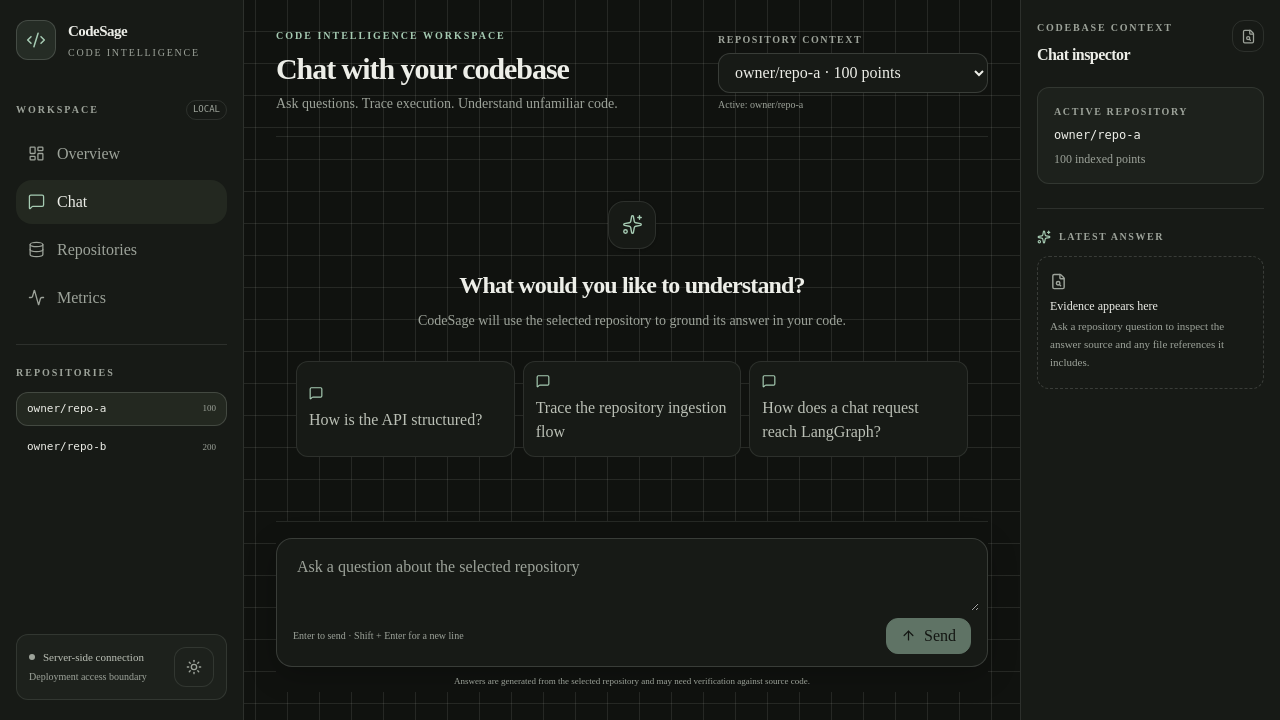
Test: ChatPage › Loading and duplicate-submission prevention › disables input while a request is in flight and prevents duplicates
In the text box with placeholder "Ask a question about the selected repository": (632, 578) [285,546,979,610], type "Loading test"
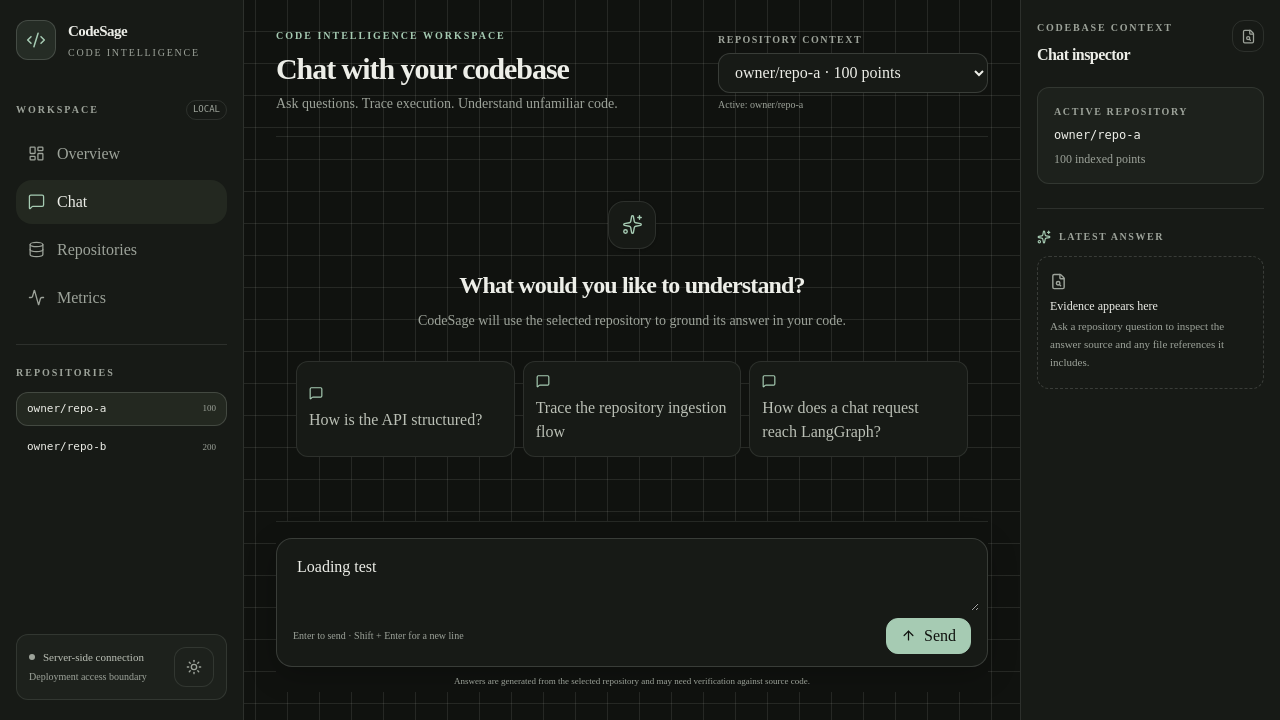
Click the button with aria-label "submit": (928, 636) [886,618,971,654]
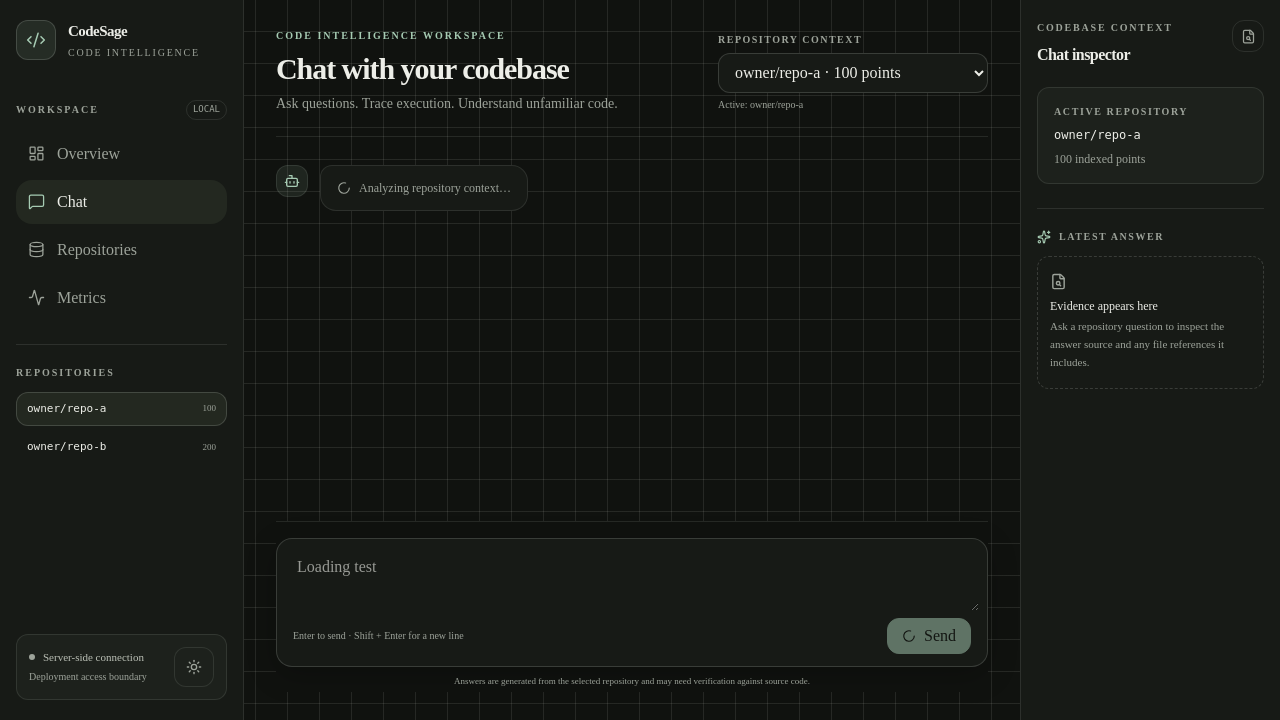
Now the button with aria-label "submit" is disabled
Attempting to submit again while loading should not create a second call
Click the button with aria-label "submit": (929, 636) [887,618,971,654]
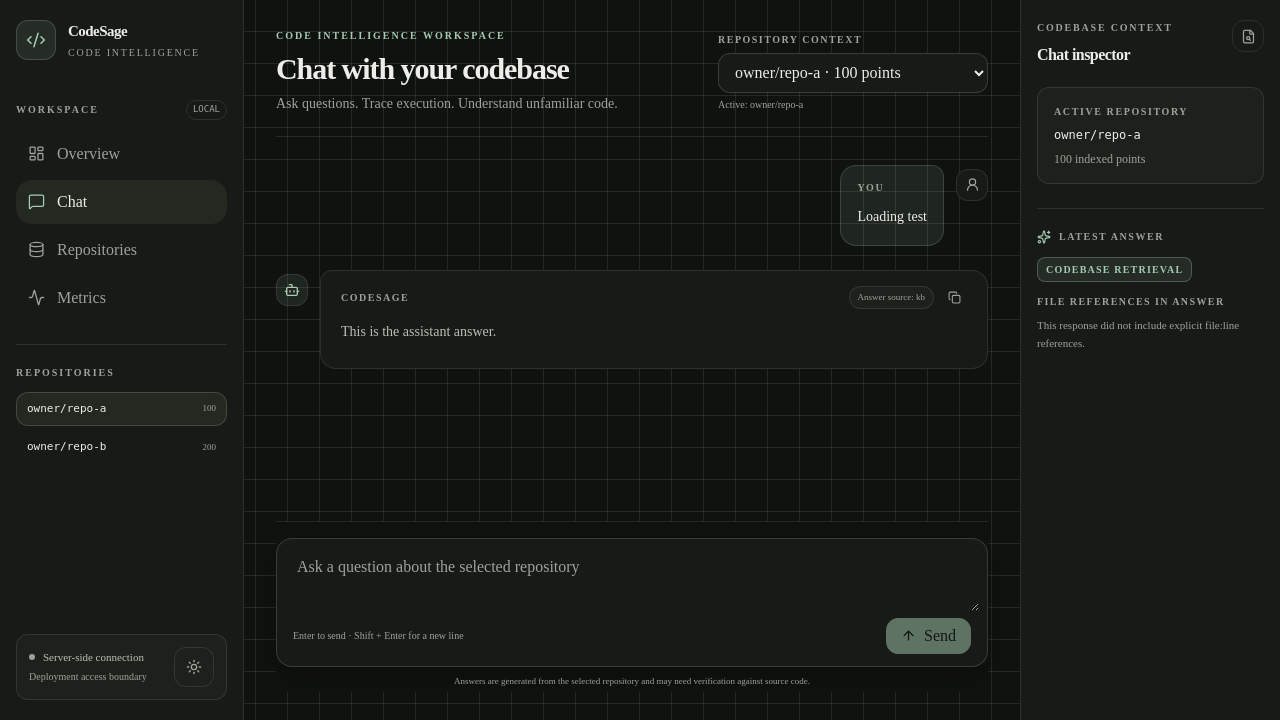
Now the text "This is the assistant answer." is shown, box [341,324,496,339]
